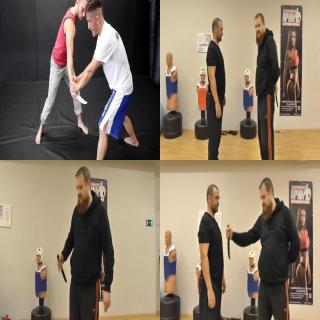knife: (56, 252, 68, 284), (69, 90, 87, 106), (225, 222, 231, 260), (275, 85, 279, 108)
